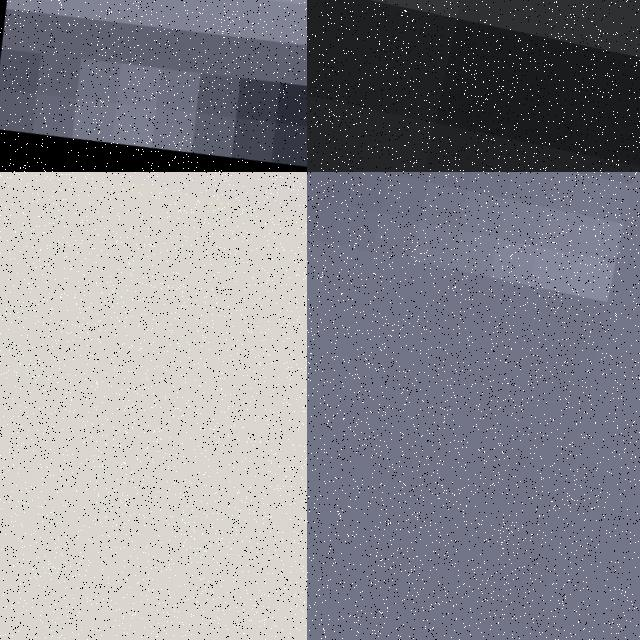drone: (0, 0, 307, 172)
